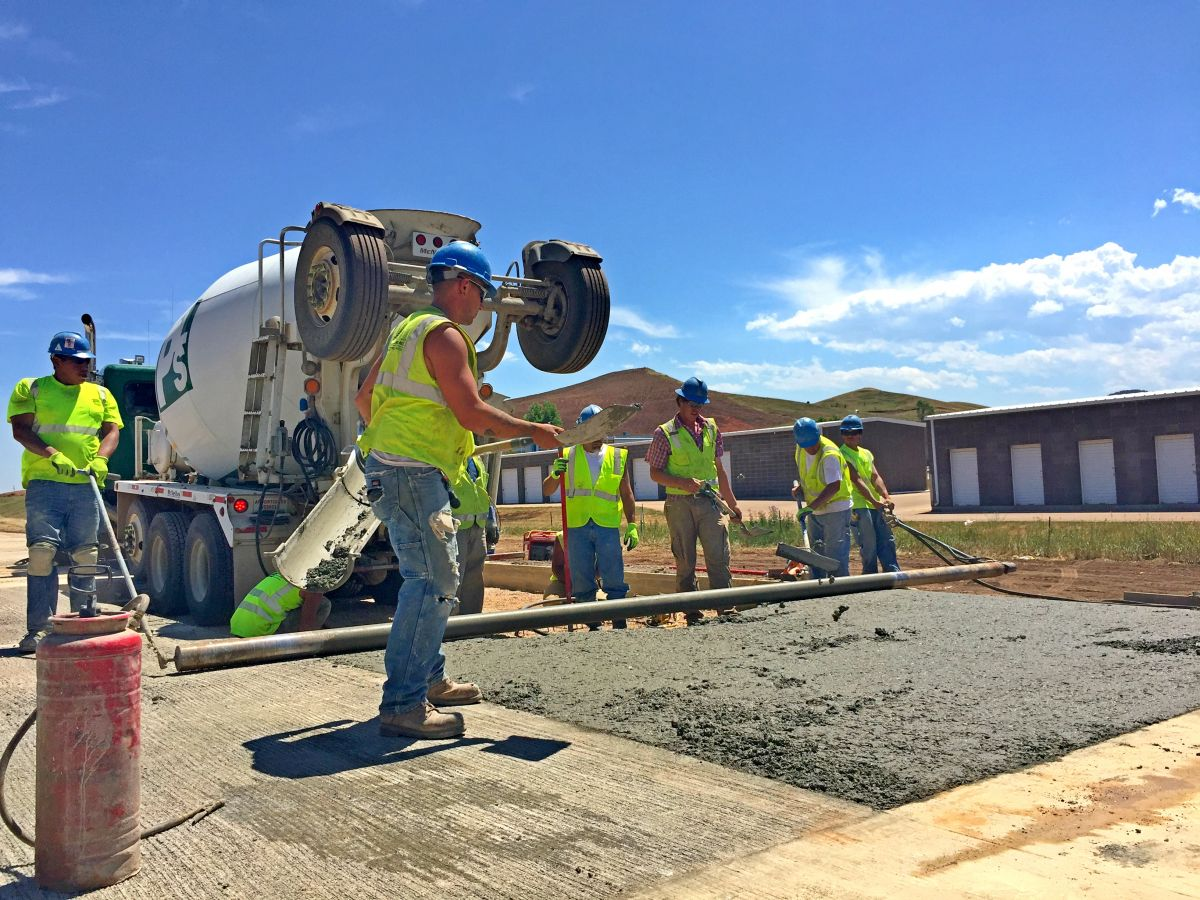epi: (374, 238, 499, 760), (4, 328, 126, 627), (648, 375, 749, 604), (559, 402, 650, 578), (778, 412, 859, 567), (841, 409, 899, 565)
